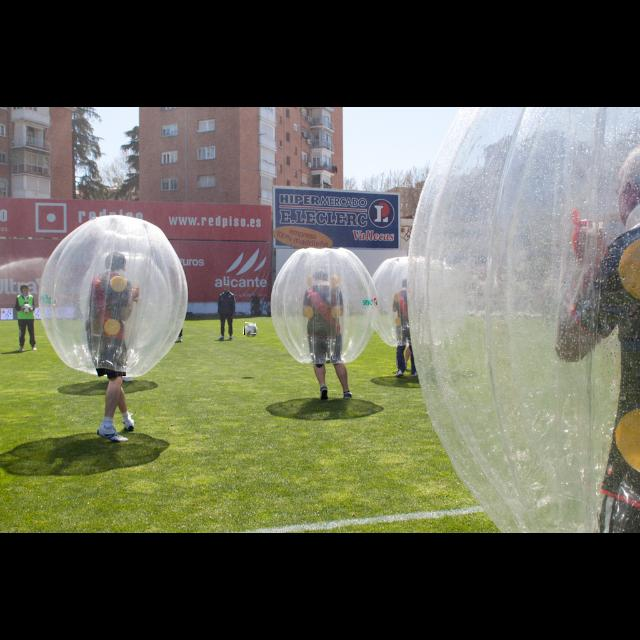Football: (244, 323, 256, 335)
